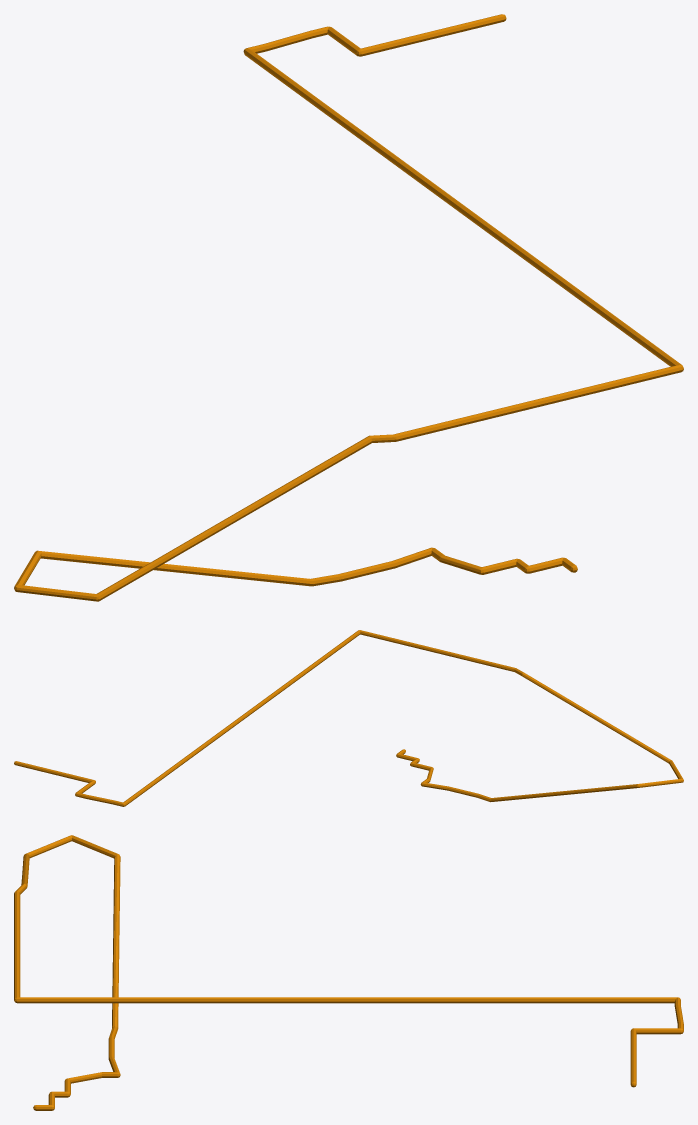
The picture shows the model from 3 angles, top to bottom: view 1: azimuth 30°, elevation 25°; view 2: azimuth 150°, elevation 25°; view 3: azimuth 270°, elevation 25°; orthographic projection. The views are drawn at different scales.
Bounding box in the file's own units: 2409 × 520 × 2129.
